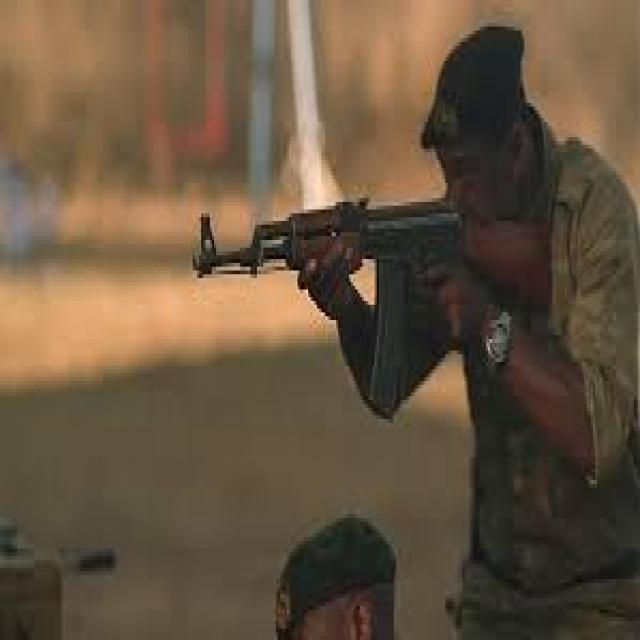weapon: (191, 190, 555, 420)
